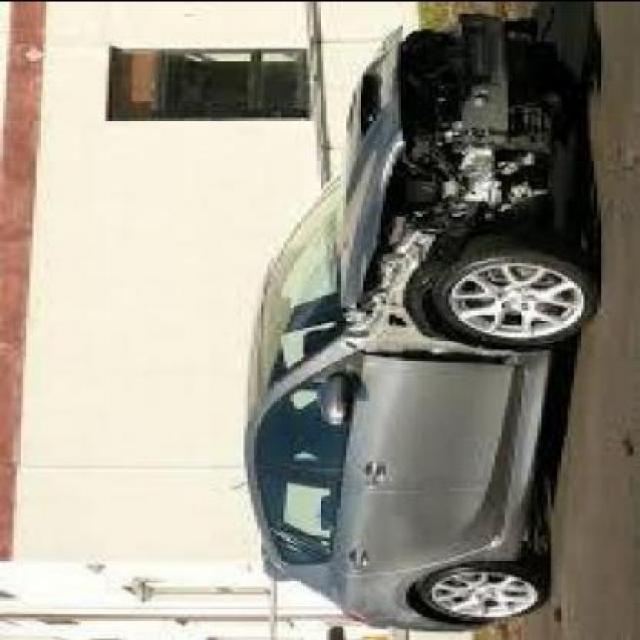damage: (347, 12, 560, 370)
